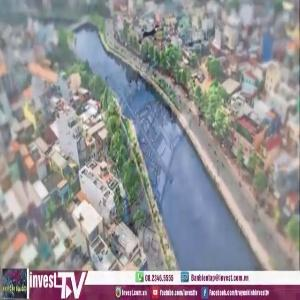drone: (128, 13, 176, 61)
